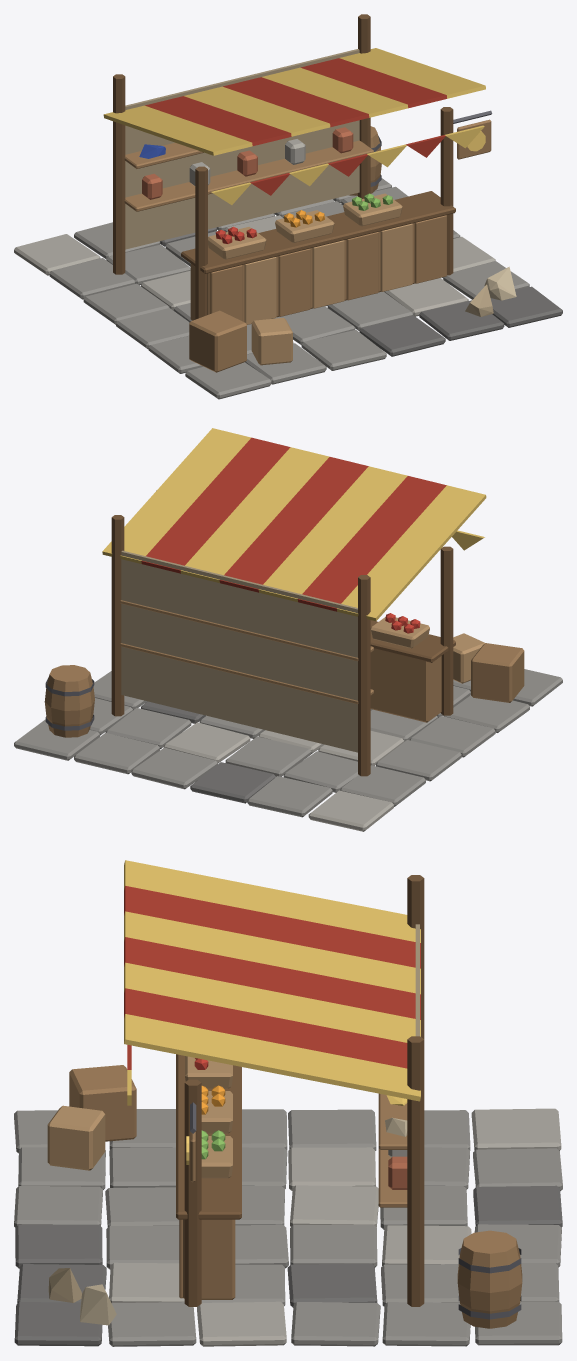
File: market_1.glb
3 views of the same model, one above another, from view 1: azimuth 30°, elevation 25°; view 2: azimuth 150°, elevation 25°; view 3: azimuth 270°, elevation 25° (orthographic). The views are drawn at different scales.
Visible parts, largest first — view 1: Market; view 2: Market; view 3: Market.
Part boxes in pixels (box(x1,y1,x2,y2)): Market: box(14, 14, 562, 399); Market: box(14, 428, 562, 831); Market: box(14, 860, 562, 1346).
Bounding box in the file's own units: 5.16 × 2.94 × 5.18.
